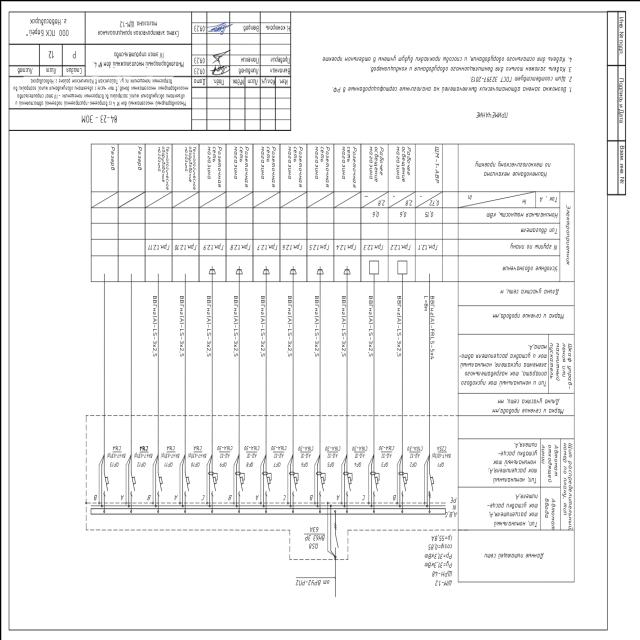-: (303, 524, 325, 542), (404, 442, 424, 458), (186, 442, 206, 458), (294, 443, 314, 459), (322, 442, 342, 458), (105, 443, 125, 459), (376, 442, 396, 458), (213, 441, 233, 457), (159, 443, 179, 459), (268, 442, 288, 458), (133, 442, 153, 458), (241, 443, 260, 459), (349, 444, 369, 459), (430, 444, 450, 459), (428, 566, 452, 578)
QF: (182, 472, 190, 492), (155, 471, 163, 491), (101, 472, 109, 492), (128, 472, 136, 492), (428, 473, 433, 491)
QFD: (369, 470, 379, 496), (206, 470, 216, 496), (234, 470, 244, 496), (260, 470, 270, 496), (342, 470, 352, 496), (315, 470, 325, 496), (397, 470, 407, 496), (288, 470, 298, 496)
QS: (333, 531, 338, 549)
